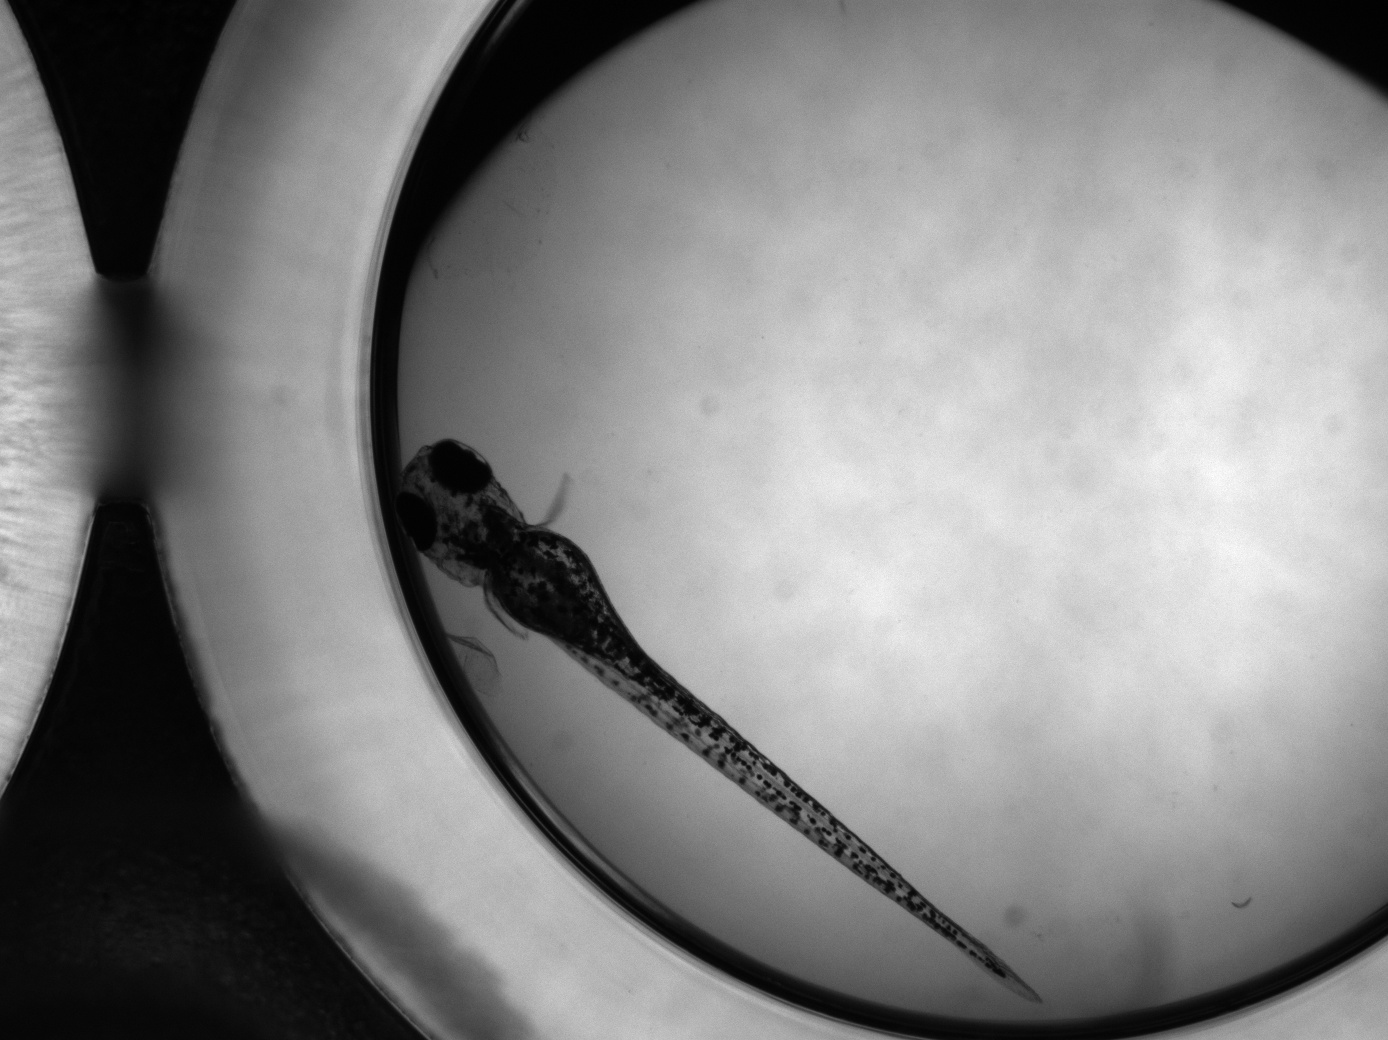embryo: (394, 440, 1041, 1007)
eye: (426, 440, 493, 495), (395, 492, 436, 553)
yolksac: (489, 530, 604, 642)
